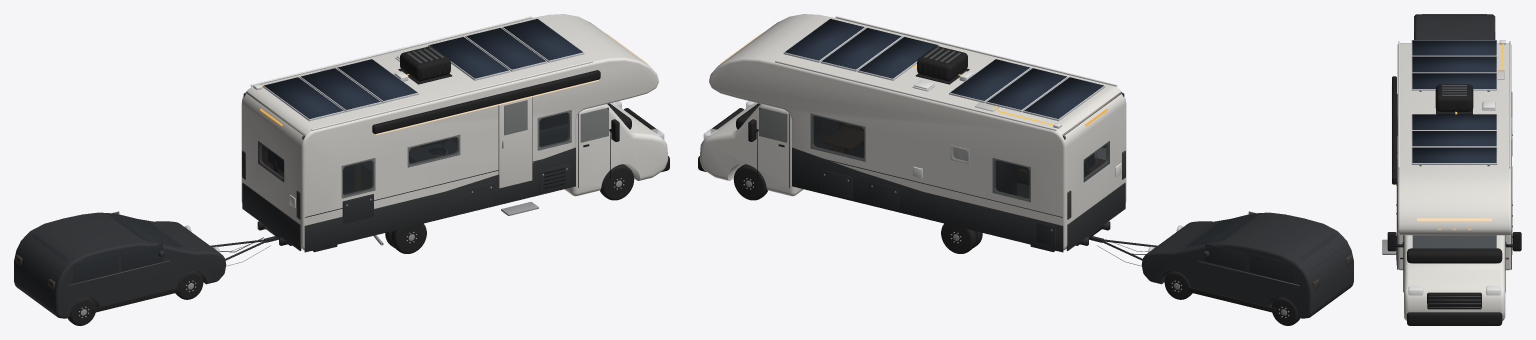
The model's file is 22nft.glb.
3 views of the same model, side by side, from view 1: azimuth 30°, elevation 25°; view 2: azimuth 150°, elevation 25°; view 3: azimuth 270°, elevation 25° (orthographic). The views are drawn at different scales.
Parts seen in each view (by area): view 1: shell__Shell, tow__Car, shell__Sweep, shell__Cab, shell__Door, shell__Awning, shell__RearBand, solar__PanelCells, solar__PanelCells.001, solar__PanelCells.002, solar__PanelCells.004, solar__PanelCells.005 (+22 smaller); view 2: shell__Shell, tow__Car, shell__Sweep.001, shell__Cab, shell__Window.002, shell__RearBand, solar__PanelCells, solar__PanelCells.001, solar__PanelCells.002, solar__PanelCells.004, solar__PanelCells.005, solar__PanelCells.003 (+18 smaller); view 3: shell__Shell, shell__Cab, tow__Car, shell__Dash, solar__PanelCells.001, solar__PanelCells, solar__PanelCells.003, solar__PanelCells.004, solar__PanelCells.005, shell__Bumper, shell__Windshield, solar__PanelCells.002 (+18 smaller).
Part boxes in pixels (<box>): shell__Shell: <box>241,14,658,250</box>; tow__Car: <box>14,212,226,318</box>; shell__Sweep: <box>304,147,575,252</box>; shell__Cab: <box>564,102,667,196</box>; shell__Door: <box>499,96,532,188</box>; shell__Awning: <box>372,70,600,133</box>; shell__RearBand: <box>242,183,301,250</box>; solar__PanelCells: <box>264,77,343,118</box>; solar__PanelCells.001: <box>301,68,380,109</box>; solar__PanelCells.002: <box>338,59,417,100</box>; solar__PanelCells.004: <box>466,28,545,69</box>; solar__PanelCells.005: <box>503,19,582,60</box>; shell__Shell: <box>709,14,1126,250</box>; tow__Car: <box>1141,212,1353,318</box>; shell__Sweep.001: <box>792,147,1063,252</box>; shell__Cab: <box>700,102,803,196</box>; shell__Window.002: <box>810,113,865,161</box>; shell__RearBand: <box>1066,183,1125,250</box>; solar__PanelCells: <box>1024,77,1103,118</box>; solar__PanelCells.001: <box>987,68,1066,109</box>; solar__PanelCells.002: <box>950,59,1029,100</box>; solar__PanelCells.004: <box>822,28,901,69</box>; solar__PanelCells.005: <box>785,19,864,60</box>; solar__PanelCells.003: <box>859,37,938,78</box>; shell__Shell: <box>1397,43,1511,270</box>; shell__Cab: <box>1404,235,1505,320</box>; tow__Car: <box>1414,14,1494,39</box>; shell__Dash: <box>1407,248,1502,263</box>; solar__PanelCells.001: <box>1412,56,1496,72</box>; solar__PanelCells: <box>1412,40,1496,55</box>; solar__PanelCells.003: <box>1412,114,1496,129</box>; solar__PanelCells.004: <box>1412,131,1496,146</box>; solar__PanelCells.005: <box>1412,147,1496,162</box>; shell__Bumper: <box>1407,312,1502,325</box>; shell__Windshield: <box>1412,235,1496,263</box>; solar__PanelCells.002: <box>1412,73,1496,88</box>.
Size of the model in its own units: 13.13 by 3.45 by 2.82.
